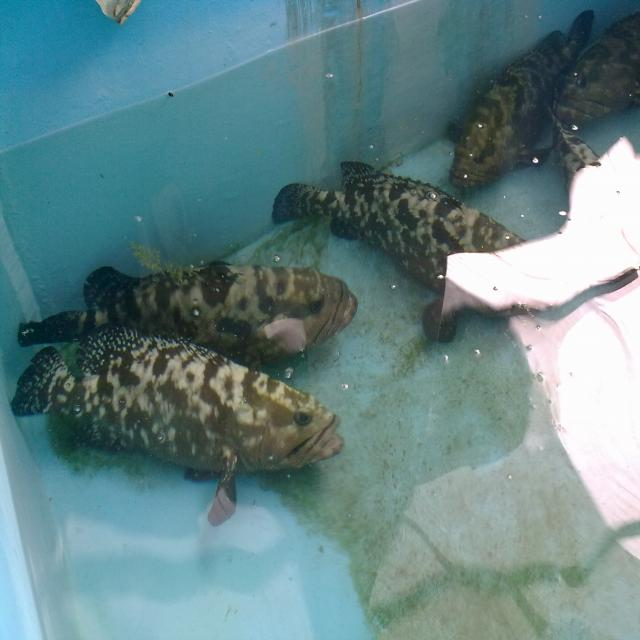grouper: (8, 322, 347, 512), (267, 154, 565, 336), (13, 254, 364, 353), (437, 5, 599, 192)
